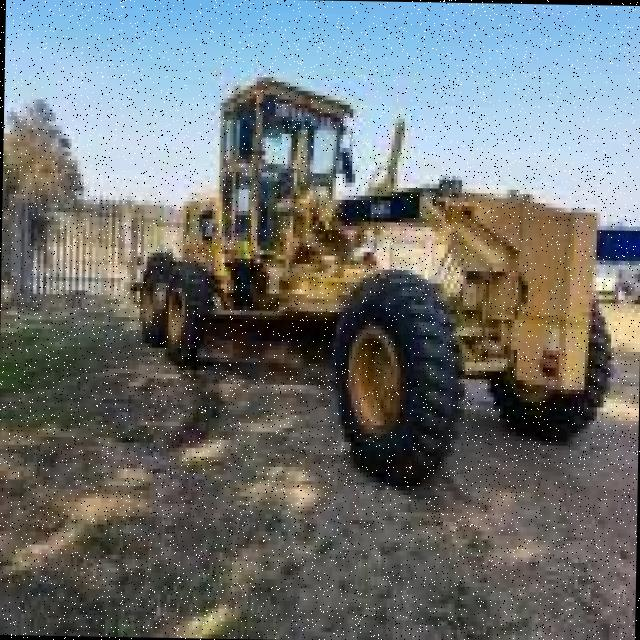Grader: (126, 49, 612, 511)
